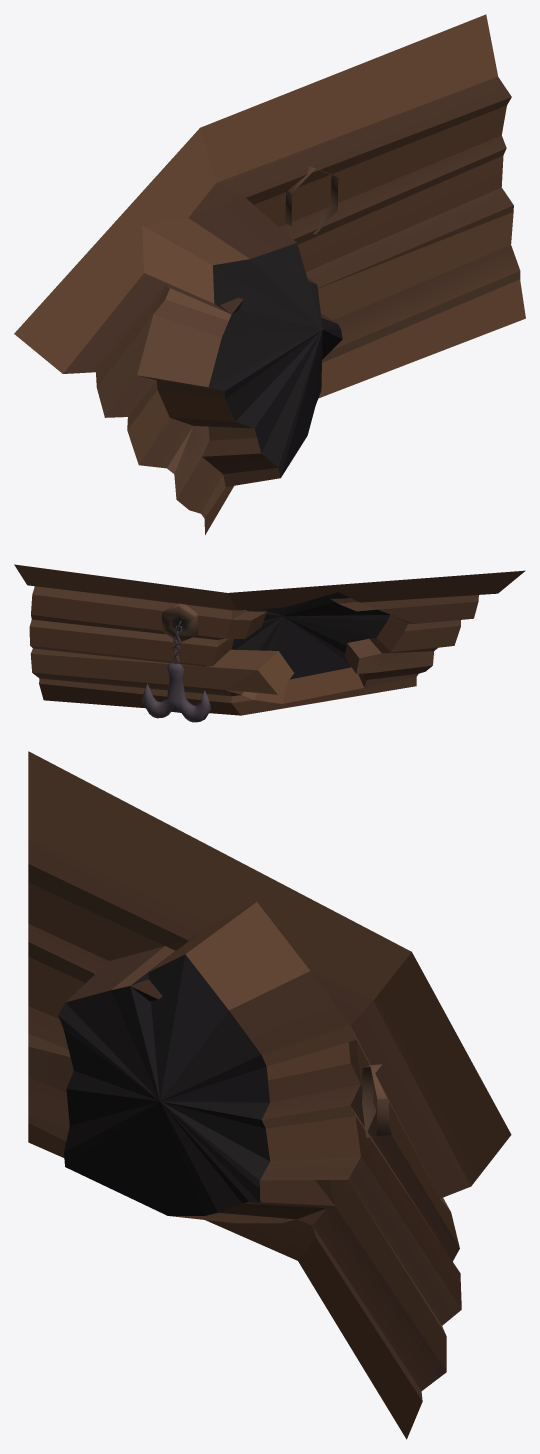
File: Shiip_0_damage.fbx
3 views of the same model, one above another, from view 1: azimuth 30°, elevation 25°; view 2: azimuth 150°, elevation 25°; view 3: azimuth 270°, elevation 25° (orthographic). The views are drawn at different scales.
Parts seen in each view (by area): view 1: ship_hull_damage; view 2: ship_hull_damage; view 3: ship_hull_damage.
Part boxes in pixels (x1,y1,x2,y2): ship_hull_damage: [14, 14, 525, 534]; ship_hull_damage: [14, 564, 525, 722]; ship_hull_damage: [28, 751, 511, 1439].
Bounding box in the file's own units: 340 × 129 × 182.
